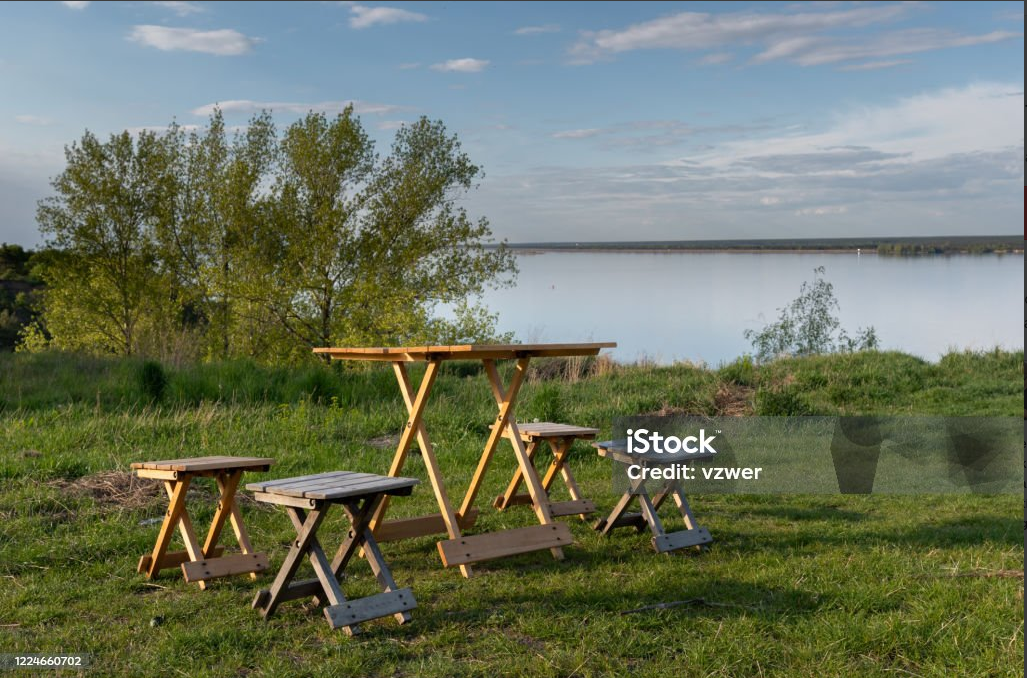obstacle: (306, 322, 607, 578), (240, 470, 425, 640), (125, 453, 255, 593), (592, 436, 722, 559), (492, 420, 587, 515)
